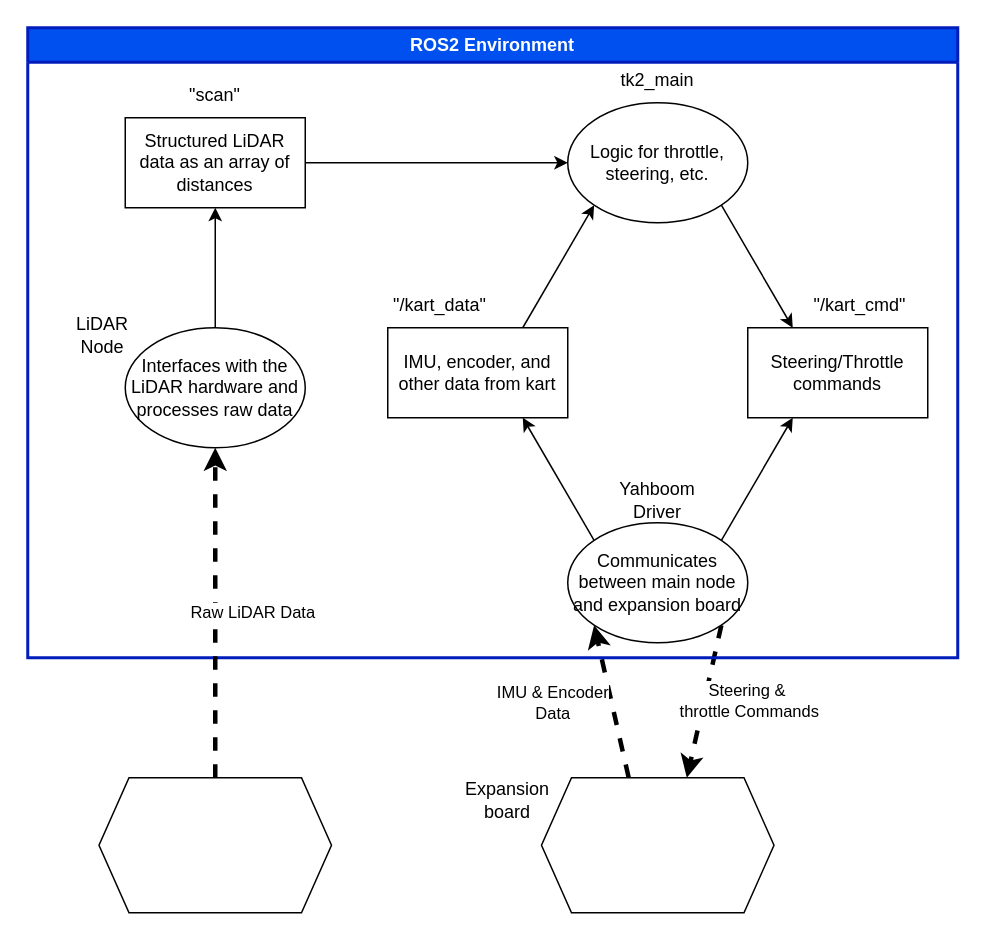
Some shapes in this 984 by 939 pixel diagram are drawn without their labels. Each missing label, with the box of its shape:
Measures distance of the nearest objects in a 360 degree scan with lasers.: (98, 776, 332, 913)
Motors, Steering servo, IMU, Encoder,: (540, 776, 774, 913)
